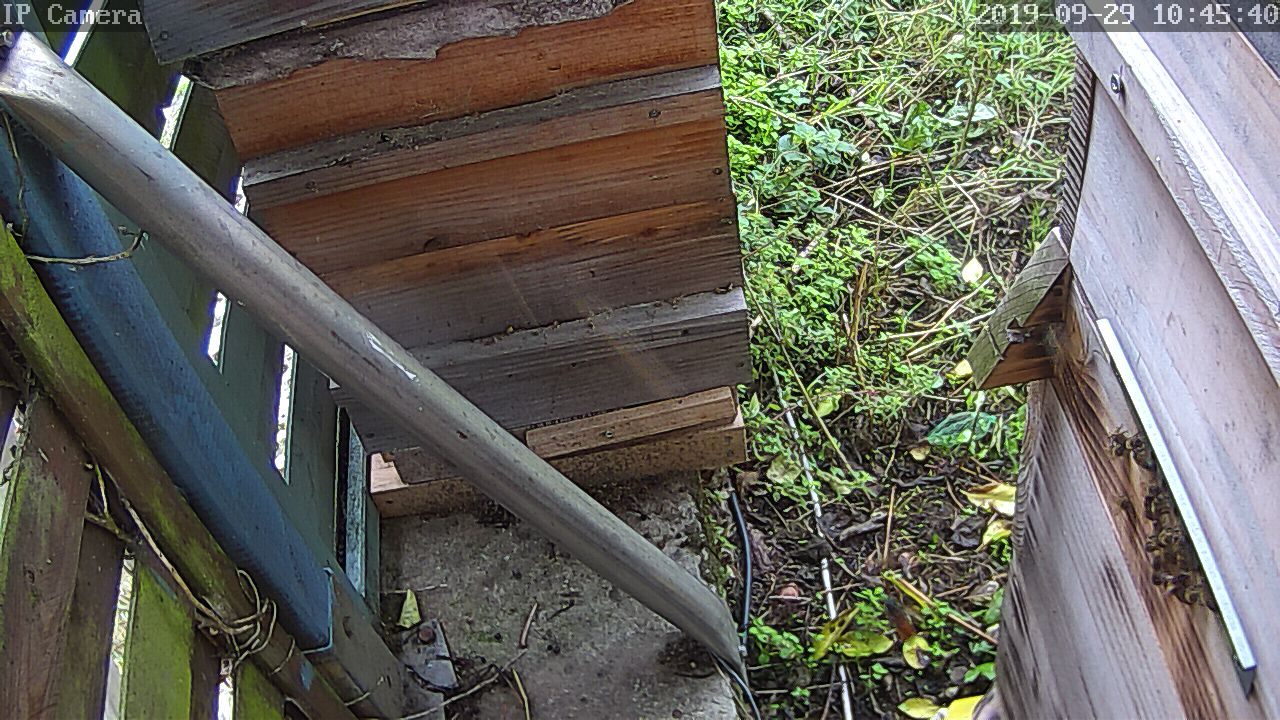bee: (1142, 559, 1206, 602), (1134, 510, 1187, 556), (1121, 473, 1167, 522), (1111, 428, 1159, 468)
